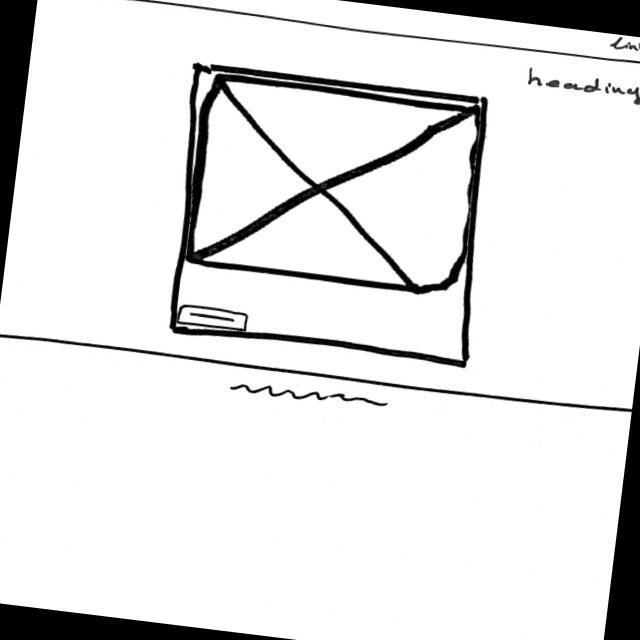container: (155, 59, 505, 372), (39, 1, 640, 70)
icon-button: (175, 302, 252, 333)
image: (180, 72, 487, 300)
label: (525, 66, 640, 111), (611, 36, 640, 57)
text: (227, 379, 392, 413)
